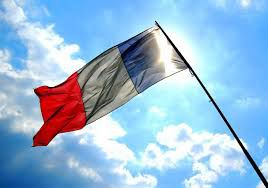French Flag: (33, 26, 186, 147)
